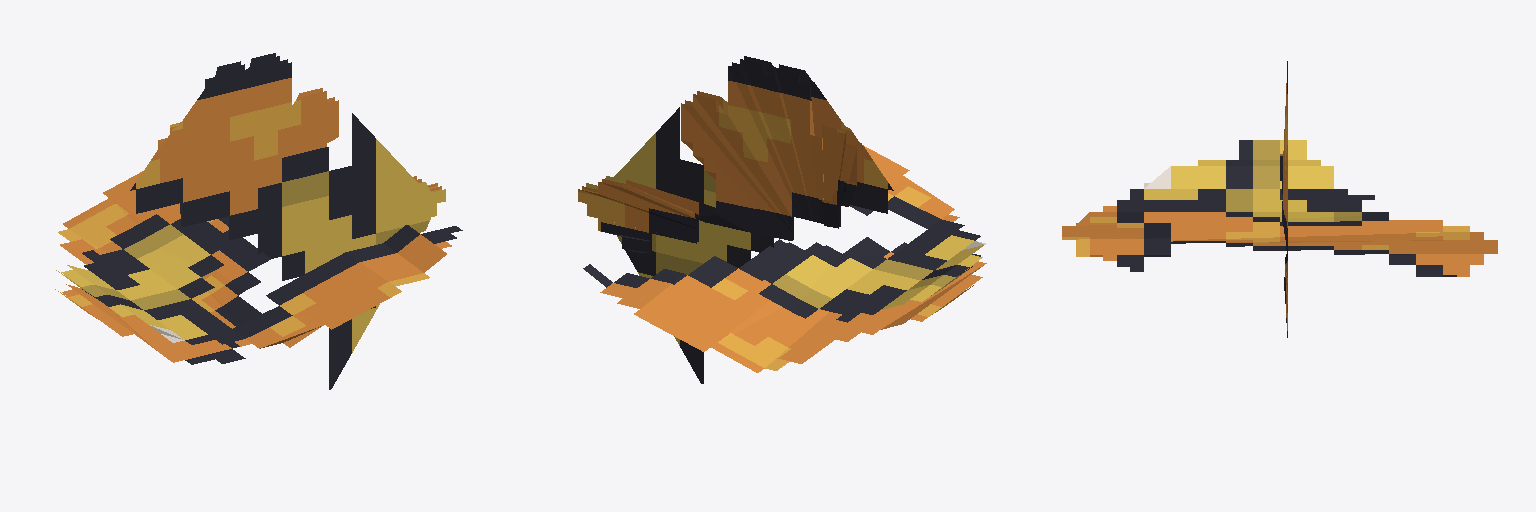
3 views of the same model, side by side, from view 1: azimuth 30°, elevation 25°; view 2: azimuth 150°, elevation 25°; view 3: azimuth 270°, elevation 25° (orthographic).
Visible parts, largest first — view 1: player, player.001; view 2: player, player.001; view 3: player.001, player.
Boxes of the visible parts, x1=… form: player: x1=130, y1=53, x2=445, y2=389; player.001: x1=55, y1=171, x2=462, y2=364; player: x1=578, y1=56, x2=893, y2=383; player.001: x1=583, y1=145, x2=986, y2=372; player.001: x1=1062, y1=140, x2=1497, y2=276; player: x1=1280, y1=61, x2=1287, y2=337.
Size of the model in its own units: 0.5009 by 0.5 by 0.5.
Materials: 1 (1 with a texture image).